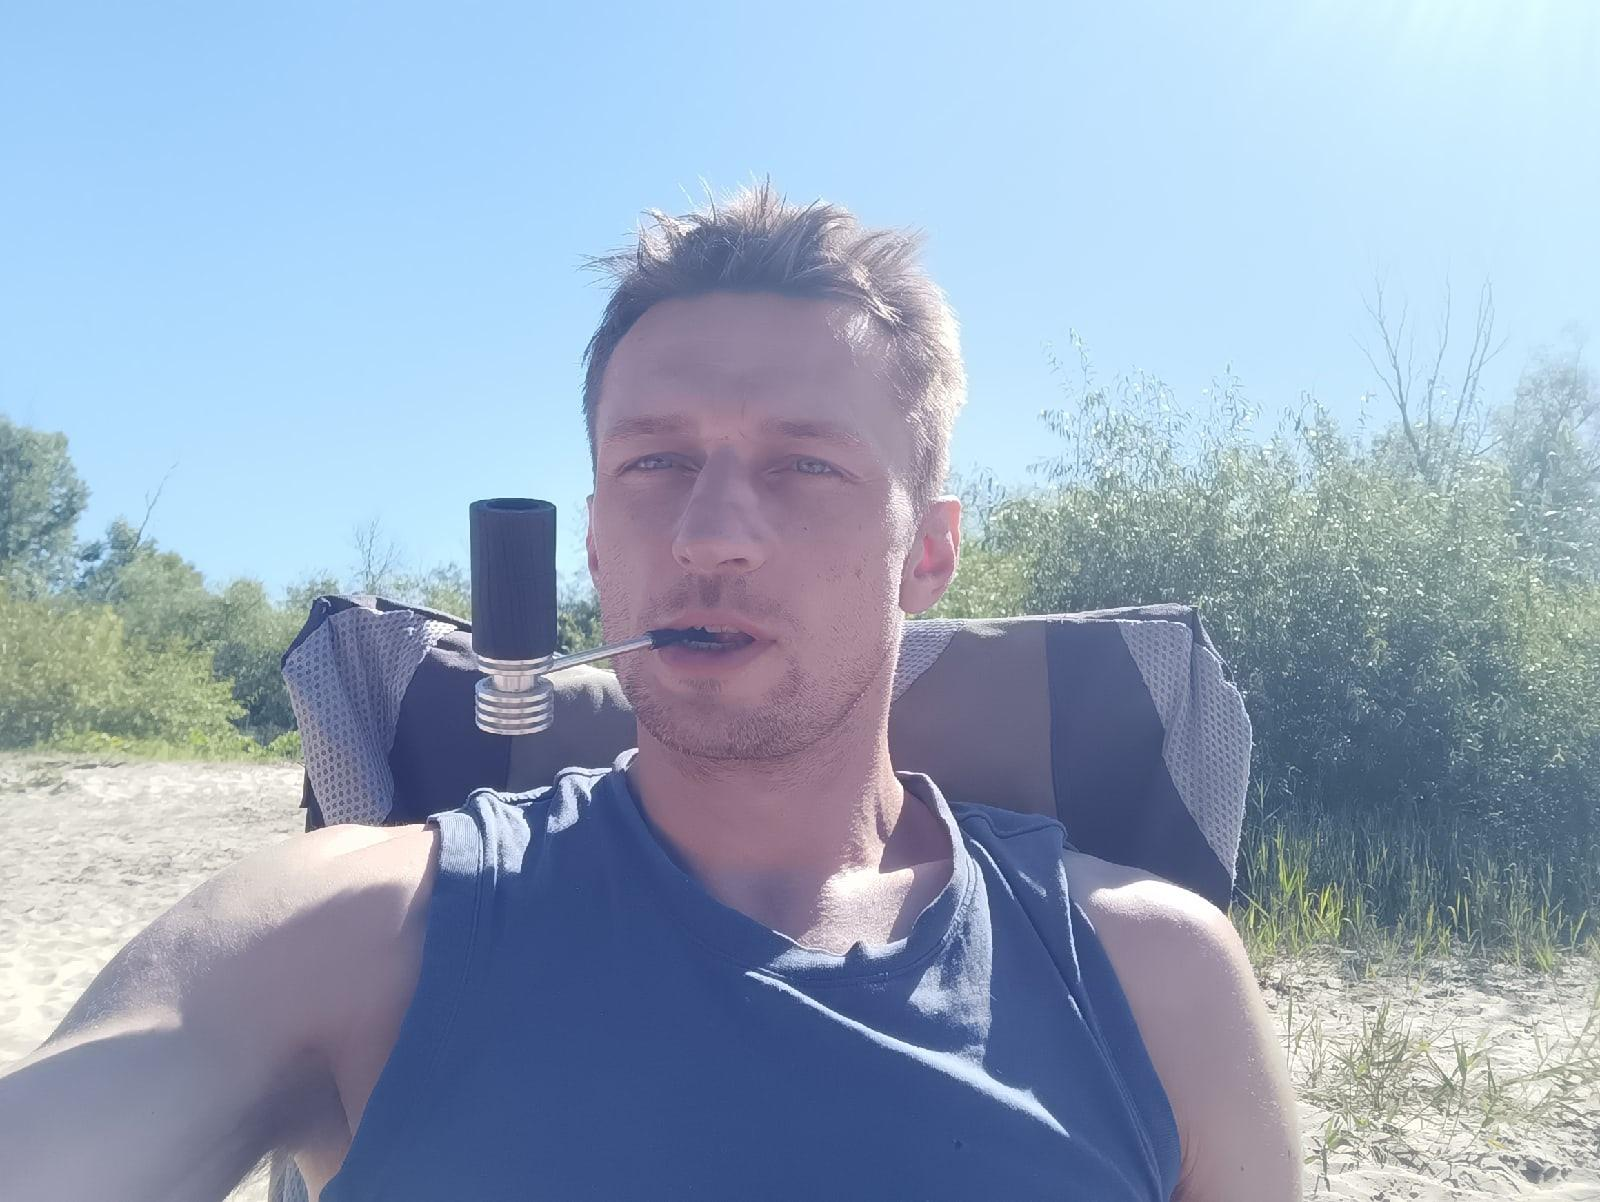trubka: (471, 497, 713, 737)
